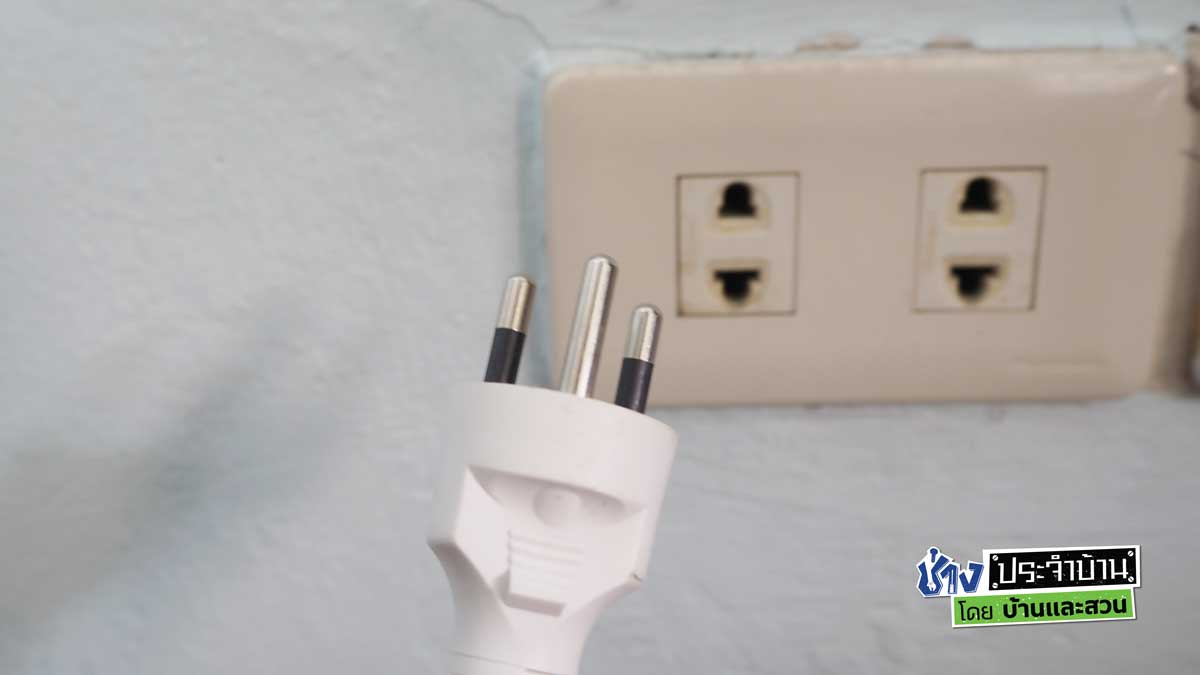Three_eye_plug: (554, 69, 1188, 396)
